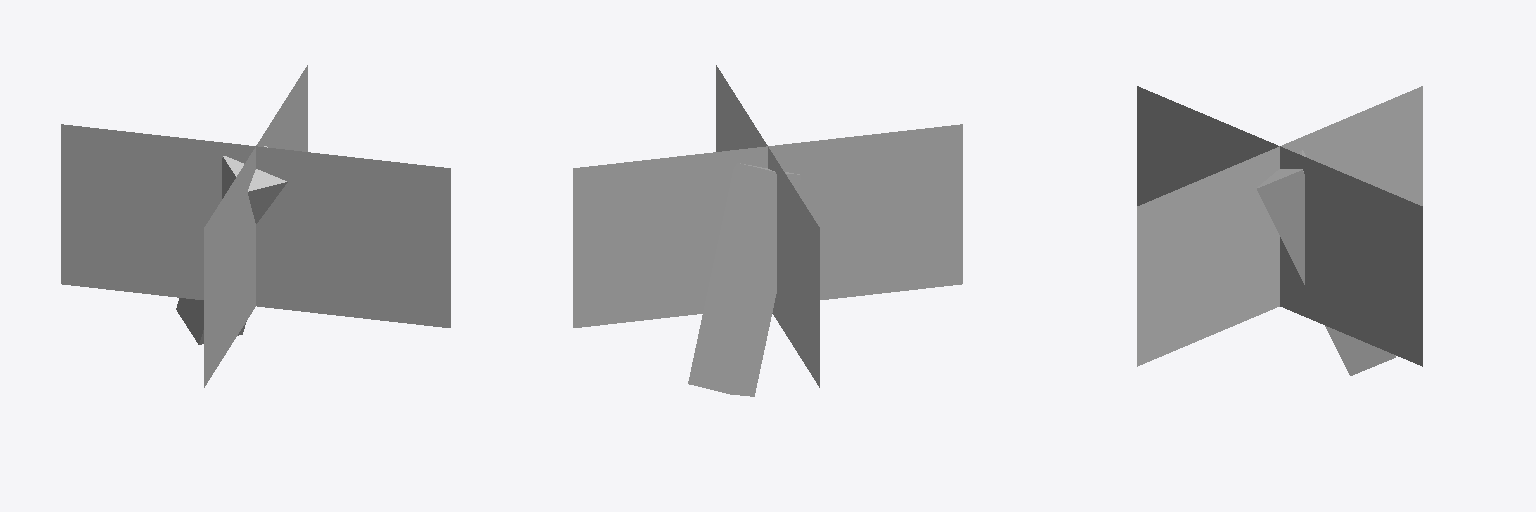
The model's file is torch_ceiling.obj.
The picture shows the model from 3 angles: view 1: azimuth 30°, elevation 25°; view 2: azimuth 150°, elevation 25°; view 3: azimuth 270°, elevation 25°; orthographic projection.
Bounding box in the file's own units: 0.7071 × 0.5995 × 0.7071.